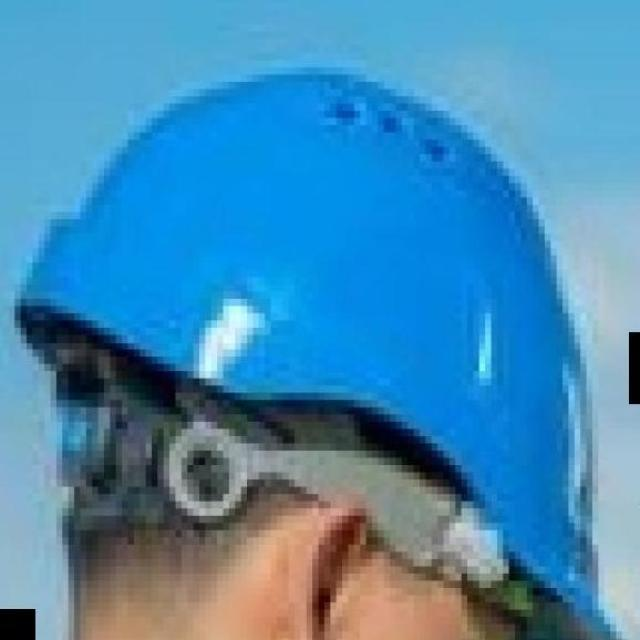blue helmet: (36, 67, 621, 577)
